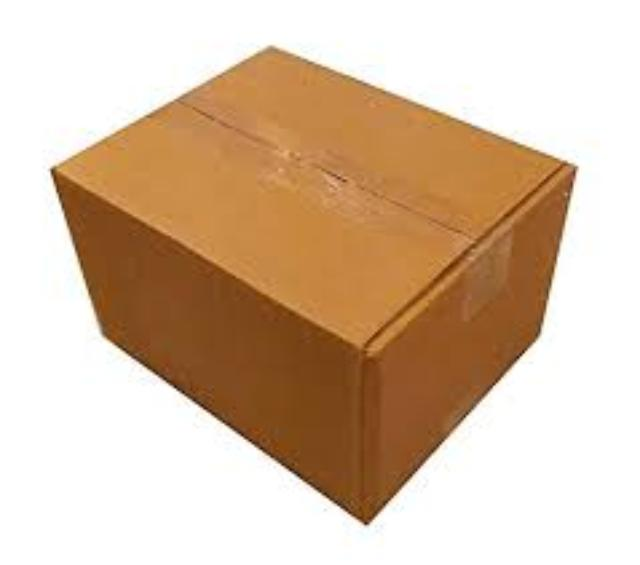cardboard paper: (51, 46, 570, 517)
